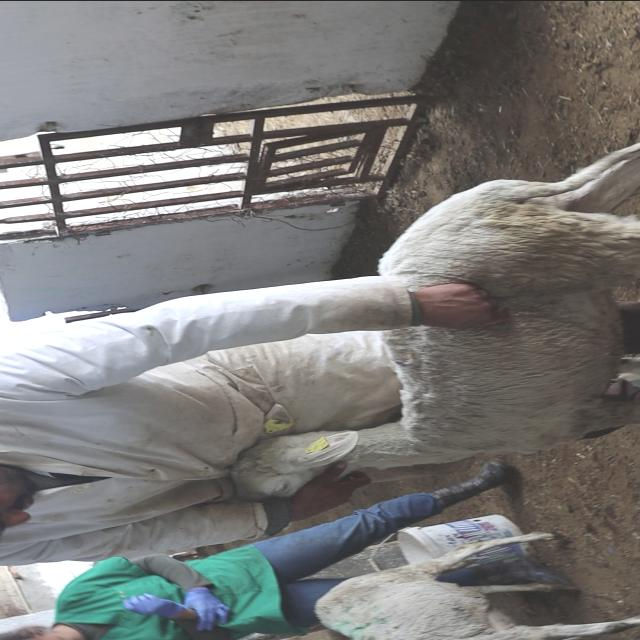Score_1: (232, 143, 639, 499)
